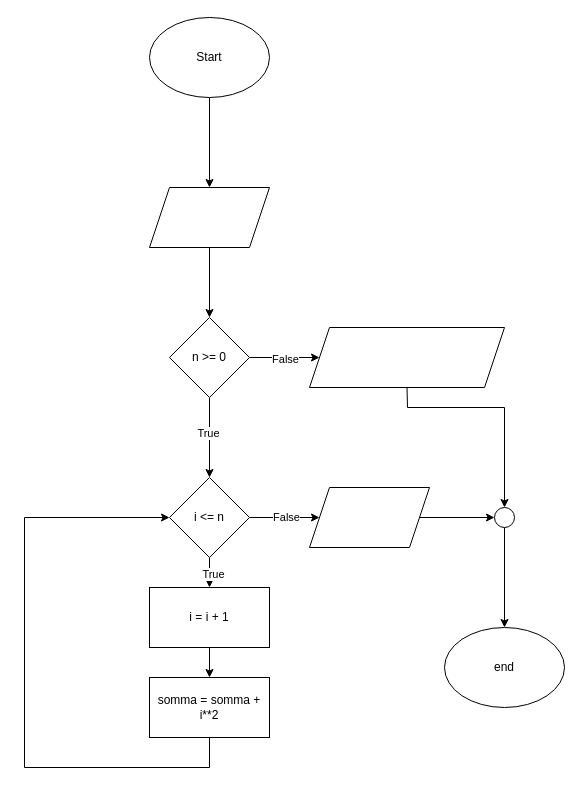
This 582x793 diagram has some shape labels left out. Here are the shapes that lost their labels. From the top down, the centre of each, then its label:
the point at 209,217: read n, i
the point at 406,357: Write "Errore. Devi inserire un numero positivo"
the point at 369,517: Write somma
